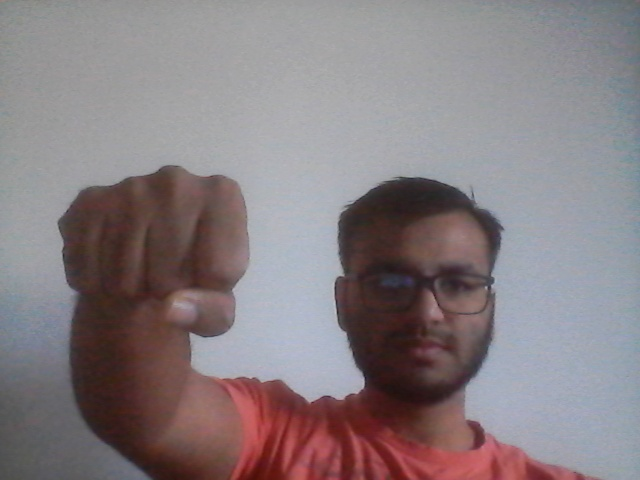Thanks: (55, 164, 255, 338)
